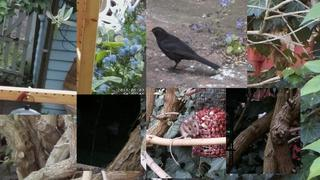blackbird: (148, 27, 220, 74)
mouse: (169, 115, 199, 166)
